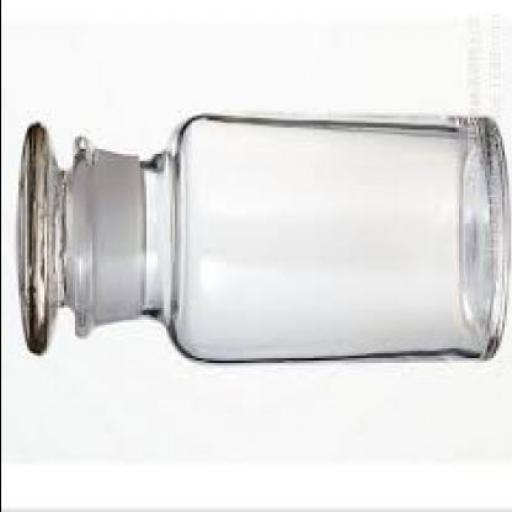glass: (13, 116, 508, 368)
